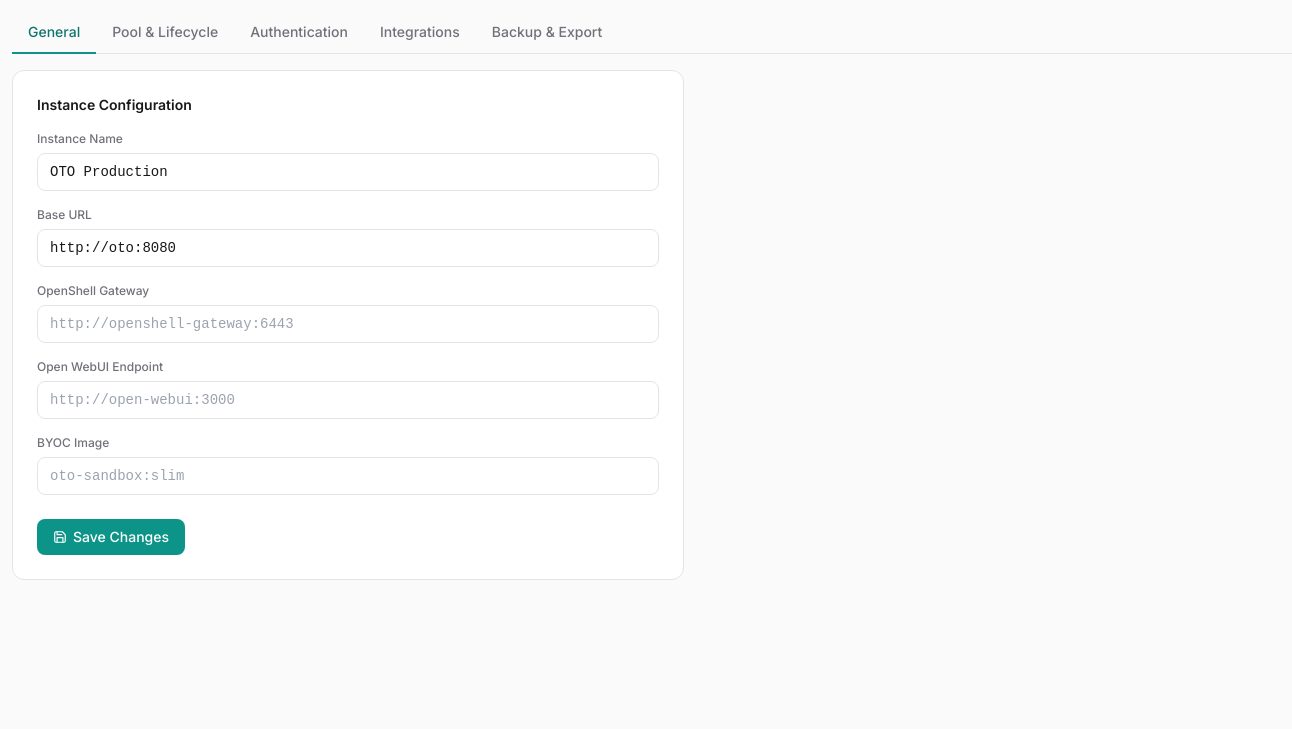
Test: Settings page › switches to Pool & Lifecycle tab
This screenshot has width=1292, height=729.
Check: the button "General" is shown, box [12,12,96,54]
Click the button "Pool & Lifecycle".
click(165, 33)  # box [96,12,234,54]
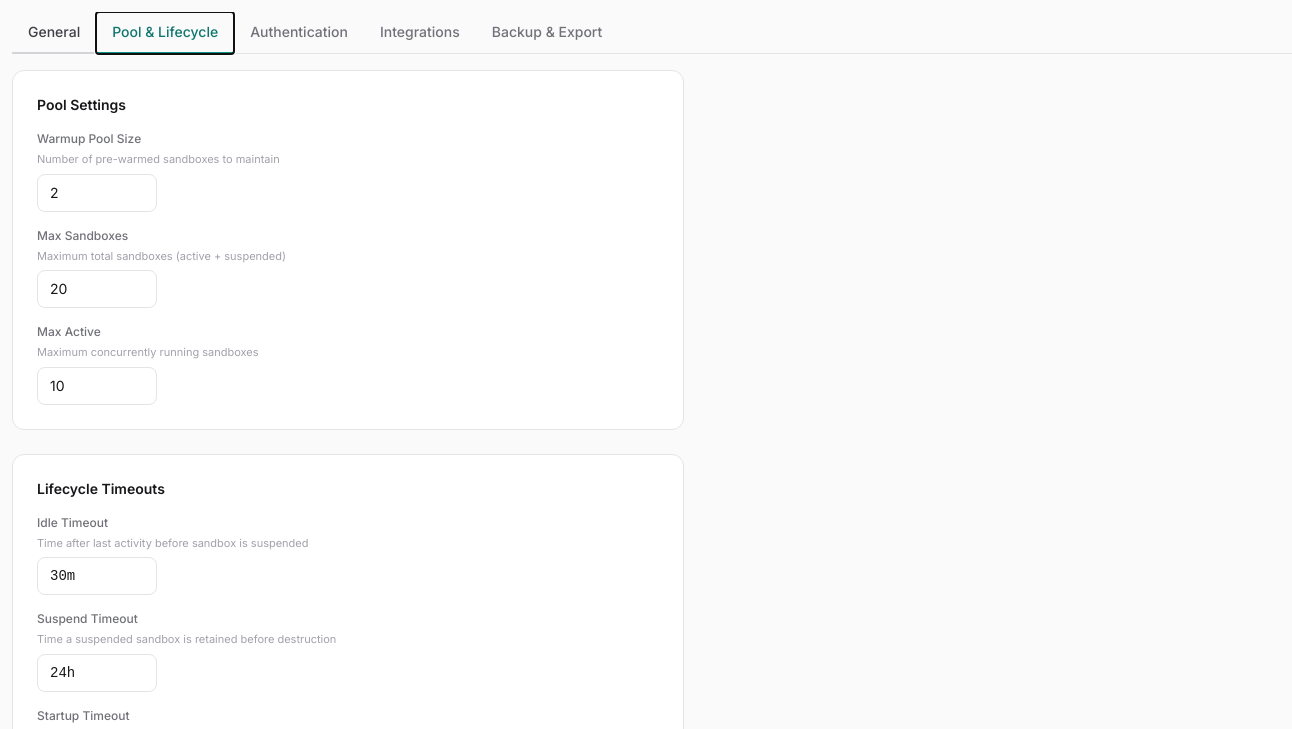
Check: the heading "Pool Settings" is shown, box [37,96,126,113]
Check: the heading "Lifecycle Timeouts" is shown, box [37,480,165,496]
